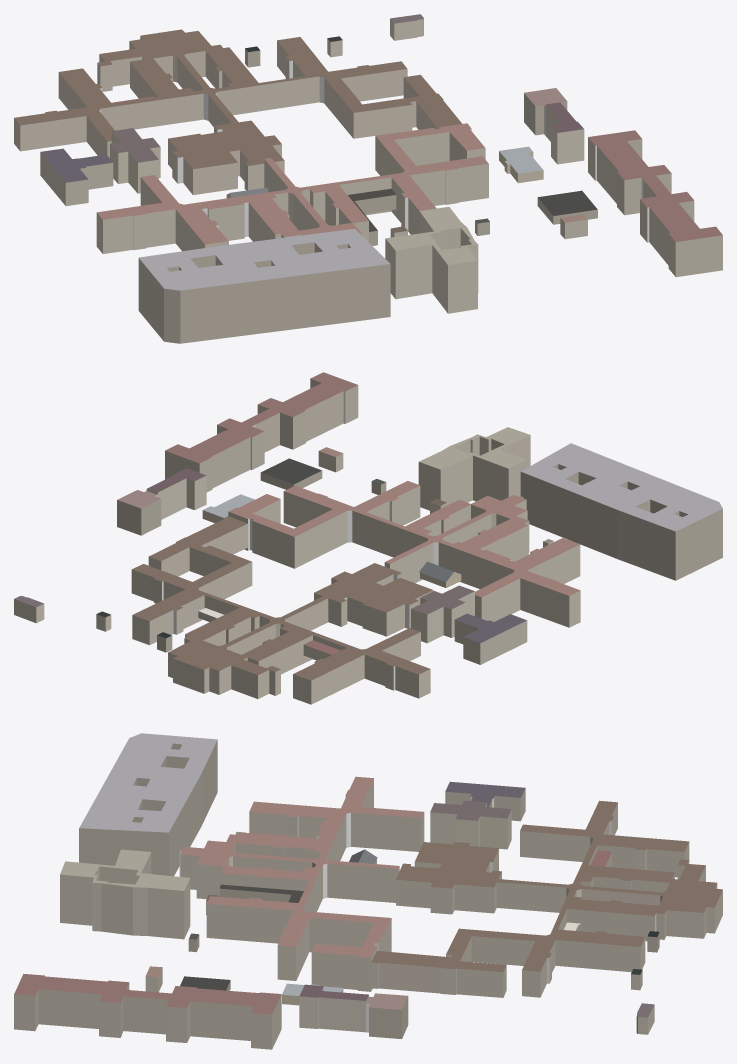
3 renders of one model, top to bottom at view 1: azimuth 30°, elevation 25°; view 2: azimuth 150°, elevation 25°; view 3: azimuth 270°, elevation 25°, orthographic. The views are drawn at different scales.
Parts seen in each view (by area): view 1: tuile; view 2: tuile; view 3: tuile.
Boxes of the visible parts, <box> form: tuile: <box>14,14,722,343</box>; tuile: <box>14,372,722,704</box>; tuile: <box>14,733,722,1049</box>.
Bounding box in the file's own units: 288 × 29.34 × 331.
